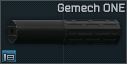Gemtech ONE multi-caliber sound suppressor: (0, 0, 127, 64)
